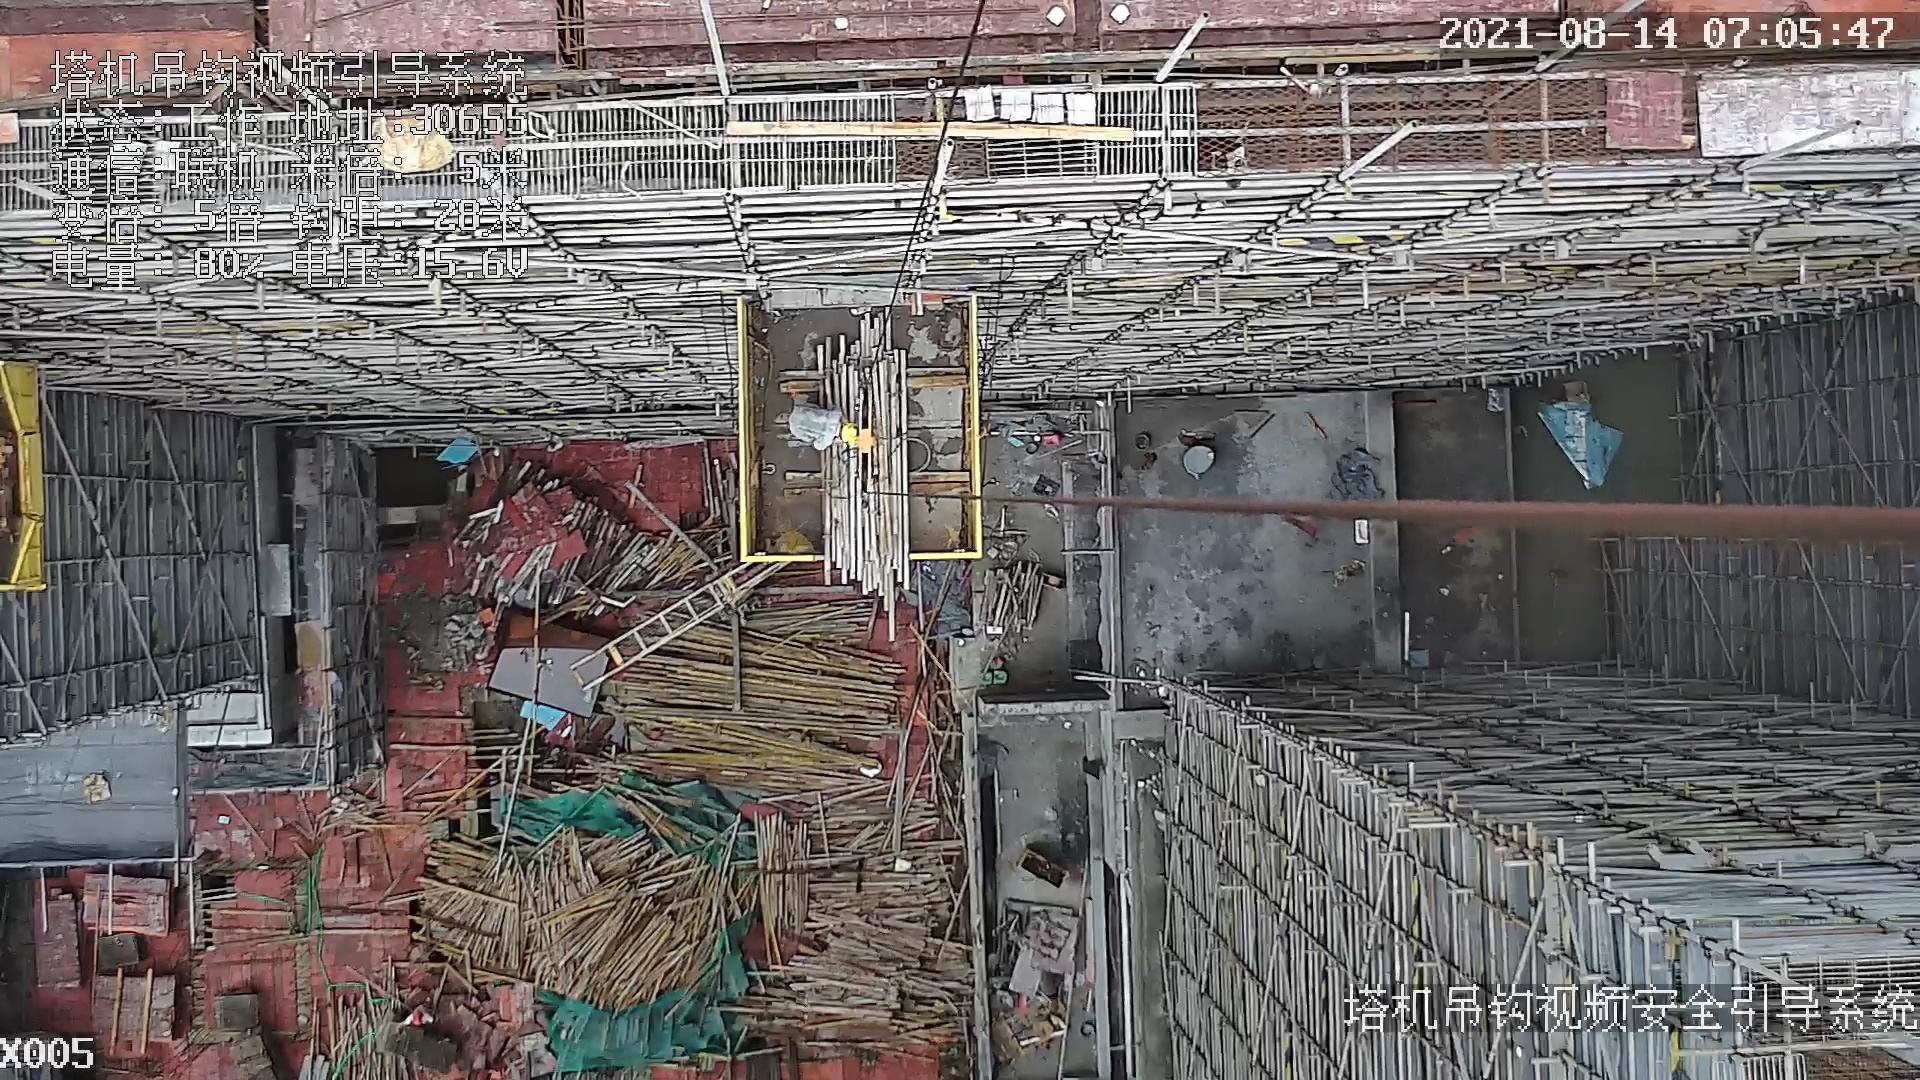helmet: (838, 421, 860, 448)
hook: (840, 387, 883, 509)
person: (787, 397, 860, 456)
